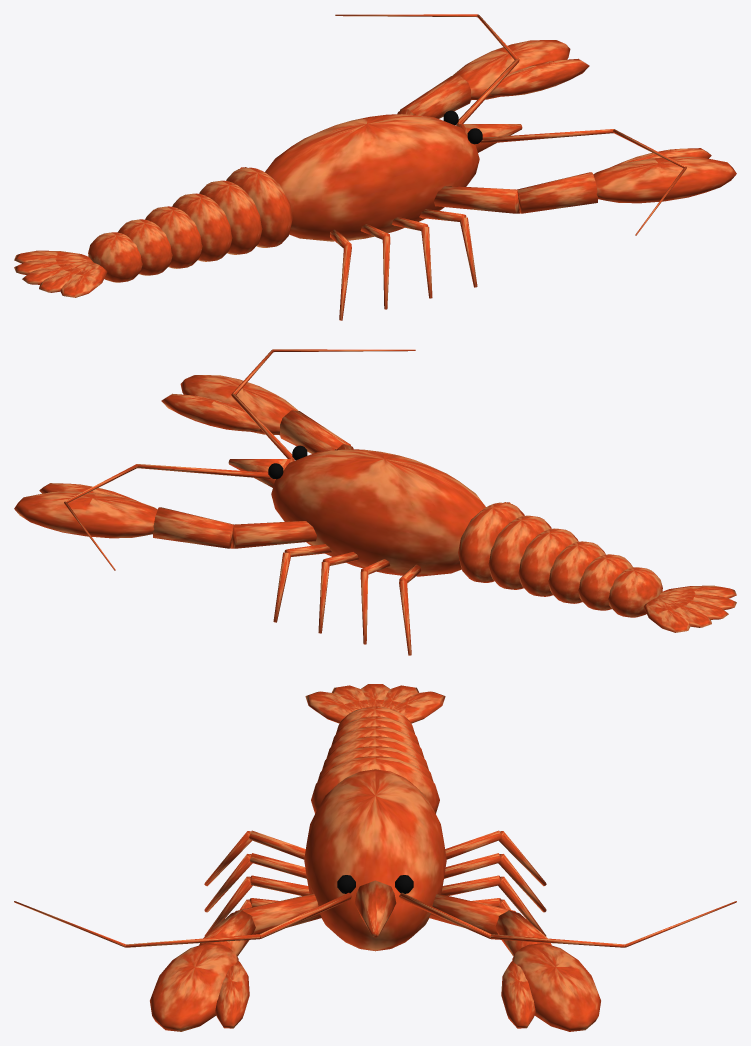
Rendered from fish_crayfish_cooked.gltf.
3 views of the same model, one above another, from view 1: azimuth 30°, elevation 25°; view 2: azimuth 150°, elevation 25°; view 3: azimuth 270°, elevation 25° (orthographic). The views are drawn at different scales.
Parts seen in each view (by area): view 1: fish_crayfish_cooked; view 2: fish_crayfish_cooked; view 3: fish_crayfish_cooked.
Boxes of the visible parts, left/top/right/bottom form: fish_crayfish_cooked: left=14, top=14, right=736, bottom=320; fish_crayfish_cooked: left=14, top=349, right=736, bottom=655; fish_crayfish_cooked: left=14, top=684, right=736, bottom=1031.
Bounding box in the file's own units: 0.1951 × 0.0363 × 0.1623.
Materials: 2 (1 with a texture image).
